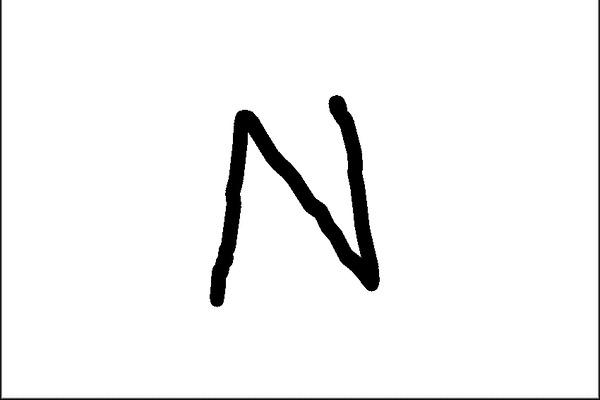N: (205, 94, 389, 307)
